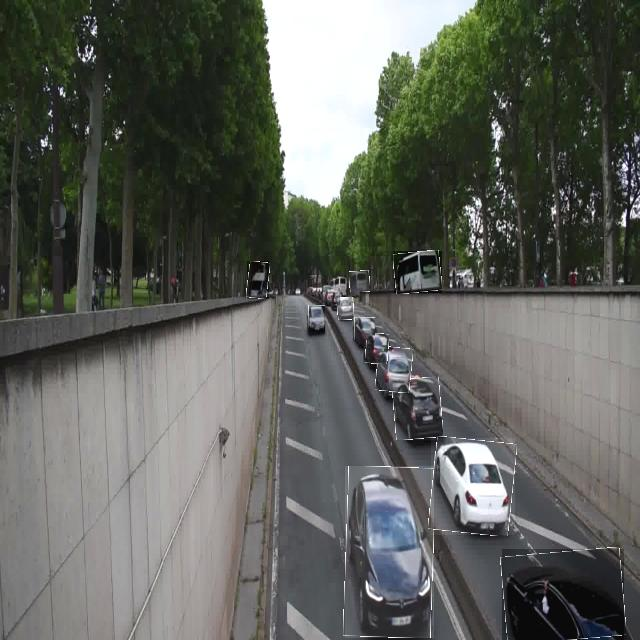Bus: (394, 251, 442, 293), (247, 261, 269, 299), (350, 271, 370, 292)
Car: (345, 466, 434, 638), (502, 549, 624, 640), (431, 438, 515, 535), (393, 378, 442, 440), (376, 347, 412, 393), (365, 333, 389, 364), (354, 317, 375, 340), (308, 305, 325, 332), (338, 297, 354, 320)
